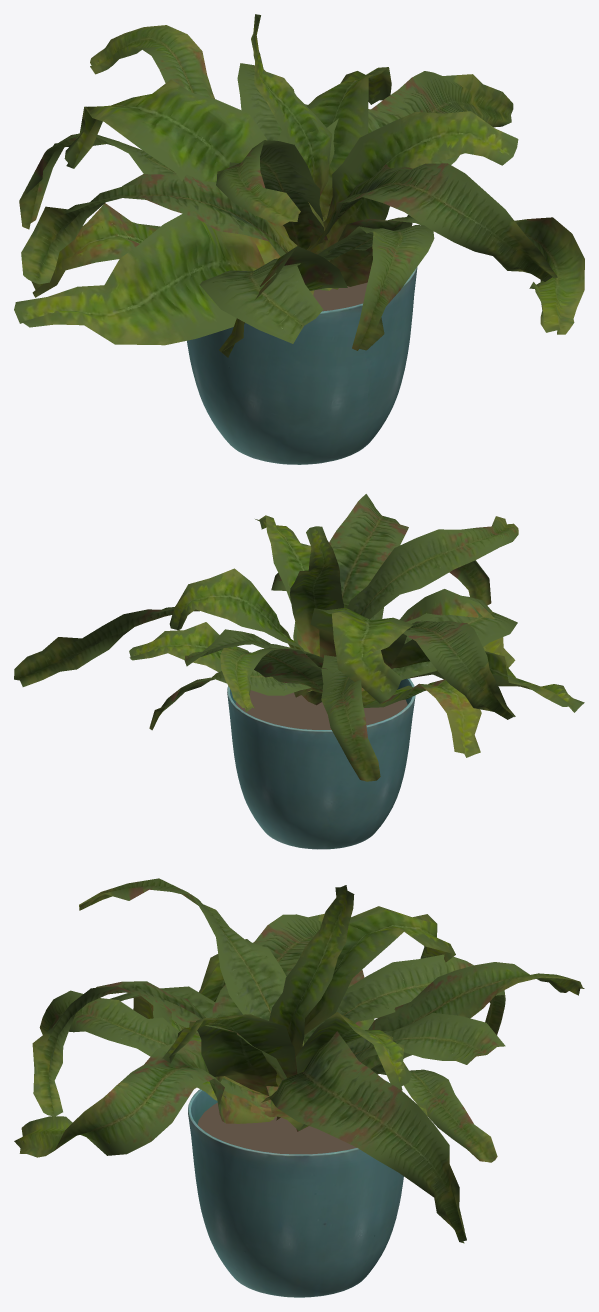
The model's file is ph-fern-bowl.glb.
3 views of the same model, one above another, from view 1: azimuth 30°, elevation 25°; view 2: azimuth 150°, elevation 25°; view 3: azimuth 270°, elevation 25° (orthographic). The views are drawn at different scales.
Parts seen in each view (by area): view 1: fern_02_c, Ecoforms_Plant_Container_SB9Turquoise, soil; view 2: fern_02_c, Ecoforms_Plant_Container_SB9Turquoise, soil; view 3: fern_02_c, Ecoforms_Plant_Container_SB9Turquoise, soil.
Boxes of the visible parts, <box> form: fern_02_c: <box>14,14,584,357</box>; Ecoforms_Plant_Container_SB9Turquoise: <box>187,267,417,464</box>; soil: <box>313,282,367,311</box>; fern_02_c: <box>14,494,584,781</box>; Ecoforms_Plant_Container_SB9Turquoise: <box>227,678,415,849</box>; soil: <box>235,690,407,729</box>; fern_02_c: <box>14,878,584,1243</box>; Ecoforms_Plant_Container_SB9Turquoise: <box>188,1081,403,1297</box>; soil: <box>197,1103,356,1154</box>.
Bounding box in the file's own units: 0.8743 × 0.5603 × 0.7652.
3 materials, 2 textured.
